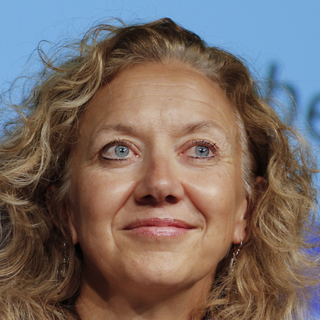eye: (94, 139, 142, 162), (173, 139, 223, 161)
